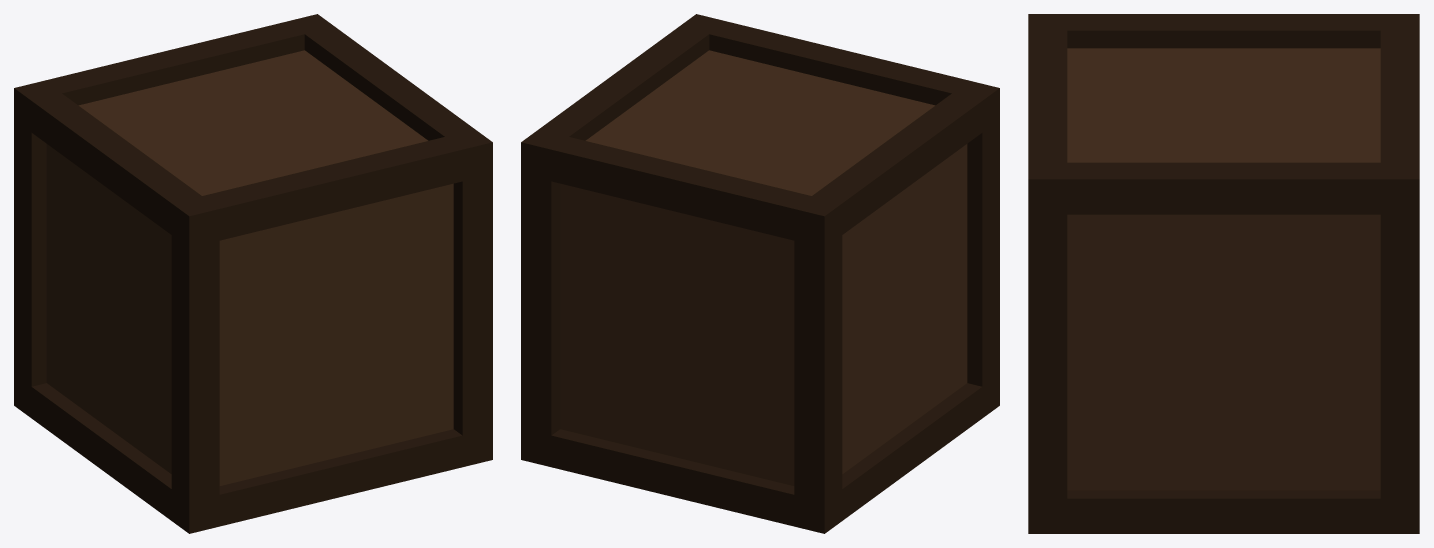
The model's file is Crate_1.fbx.
3 views of the same model, side by side, from view 1: azimuth 30°, elevation 25°; view 2: azimuth 150°, elevation 25°; view 3: azimuth 270°, elevation 25° (orthographic). The views are drawn at different scales.
Visible parts, largest first — view 1: Cube.013; view 2: Cube.013; view 3: Cube.013.
Part boxes in pixels (x1=…): Cube.013: x1=14, y1=14, x2=492, y2=533; Cube.013: x1=521, y1=14, x2=999, y2=533; Cube.013: x1=1028, y1=14, x2=1419, y2=533.
Bounding box in the file's own units: 143 × 143 × 143.
